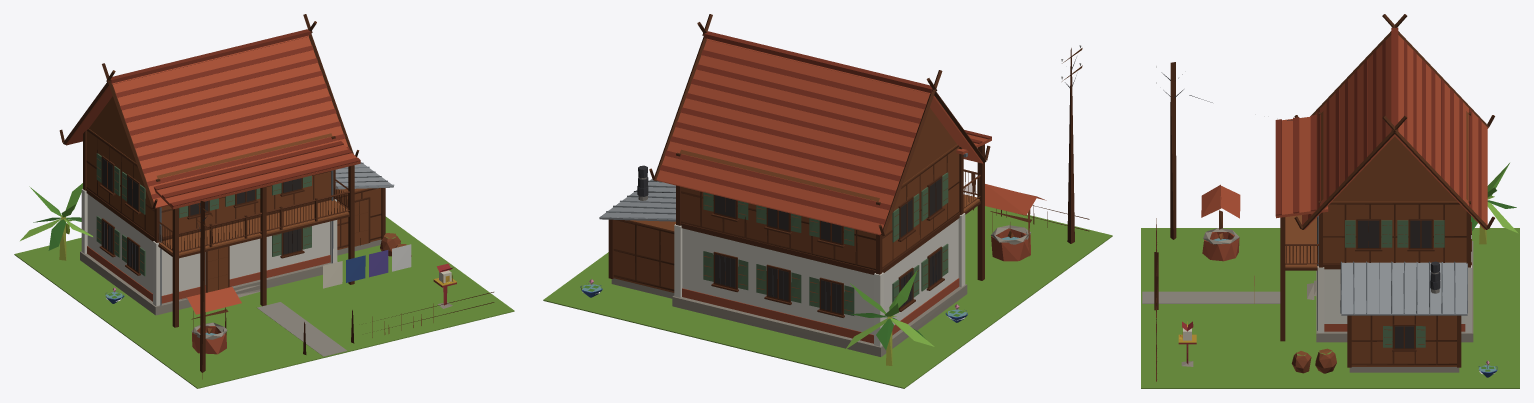
Rendered from home_3.glb.
The picture shows the model from 3 angles, left to right: view 1: azimuth 30°, elevation 25°; view 2: azimuth 150°, elevation 25°; view 3: azimuth 270°, elevation 25°; orthographic projection. The views are drawn at different scales.
Parts seen in each view (by area): view 1: body, windows; view 2: body, windows; view 3: body, windows.
Part boxes in pixels (bbox=[...]): body: bbox=[14, 14, 514, 388]; windows: bbox=[102, 158, 301, 271]; body: bbox=[543, 14, 1112, 388]; windows: bbox=[715, 178, 941, 313]; body: bbox=[1141, 14, 1519, 388]; windows: bbox=[1358, 220, 1431, 348].
Bounding box in the file's own units: 16.46 × 10.75 × 15.9.
